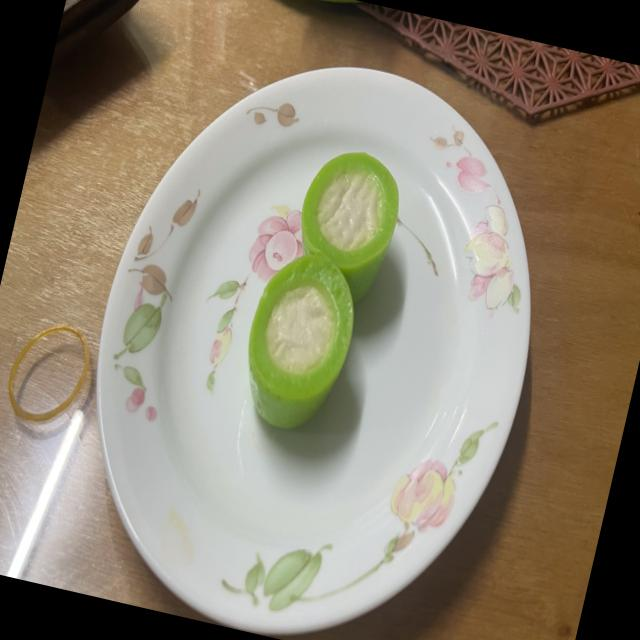nona-manis: (248, 254, 353, 428), (301, 152, 398, 301)
